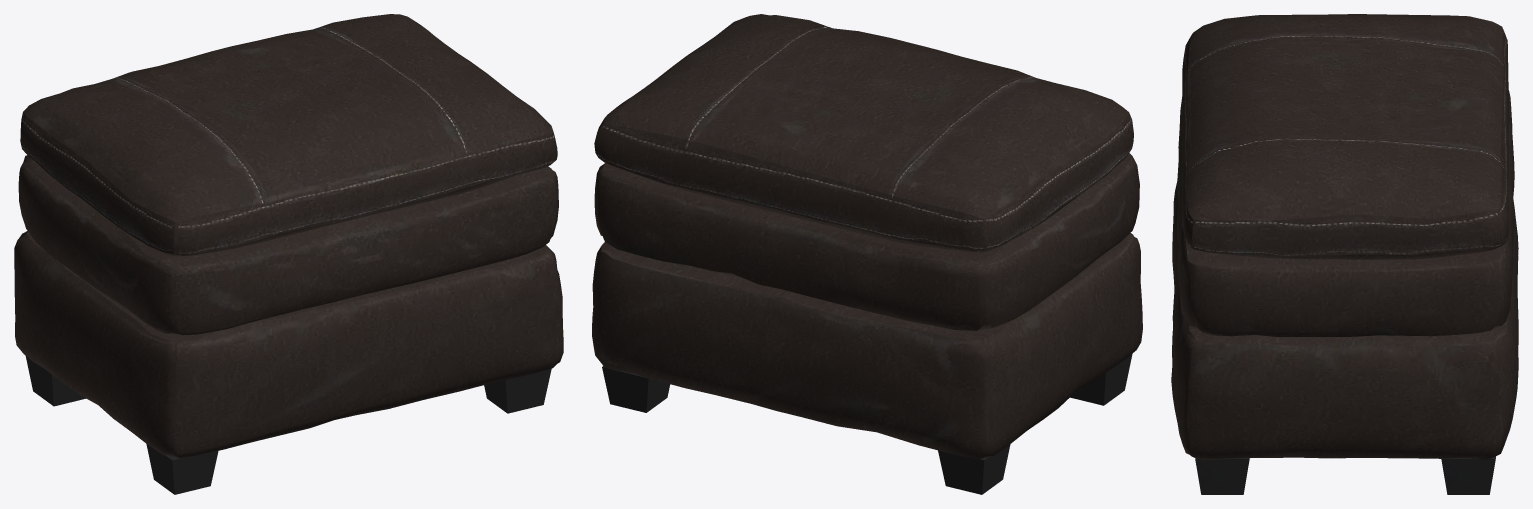
The model's file is Ottoman_01.glb.
3 renders of one model, left to right at view 1: azimuth 30°, elevation 25°; view 2: azimuth 150°, elevation 25°; view 3: azimuth 270°, elevation 25°, orthographic.
Visible parts, largest first — view 1: Ottoman_01; view 2: Ottoman_01; view 3: Ottoman_01.
Part boxes in pixels (x1,y1,x2,y2): Ottoman_01: (14, 14, 563, 494); Ottoman_01: (592, 14, 1142, 494); Ottoman_01: (1171, 14, 1518, 494).
Size of the model in its own units: 0.8846 by 0.6243 by 0.6211.
Materials: 1 (1 with a texture image).
